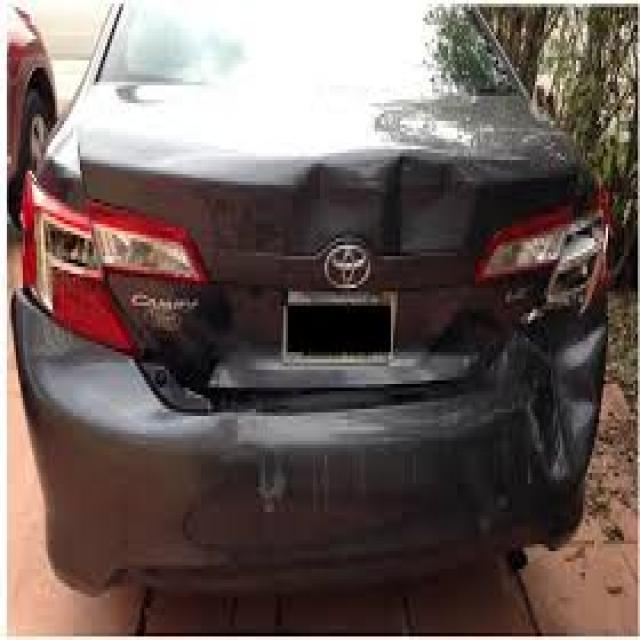minor: (100, 121, 635, 542)
